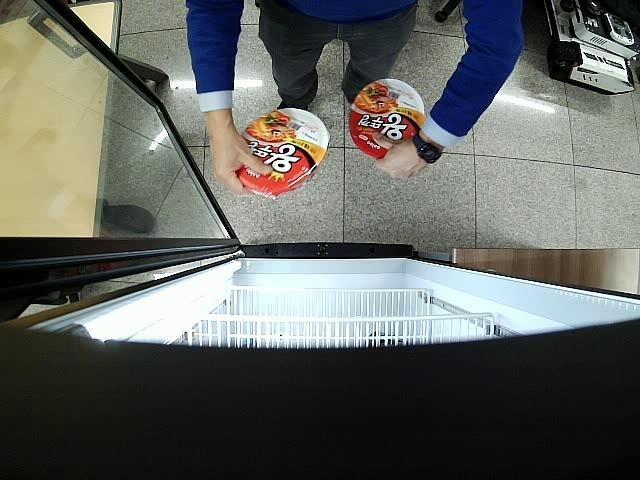10_wangTtukkeong: (237, 107, 331, 198), (348, 78, 424, 160)
